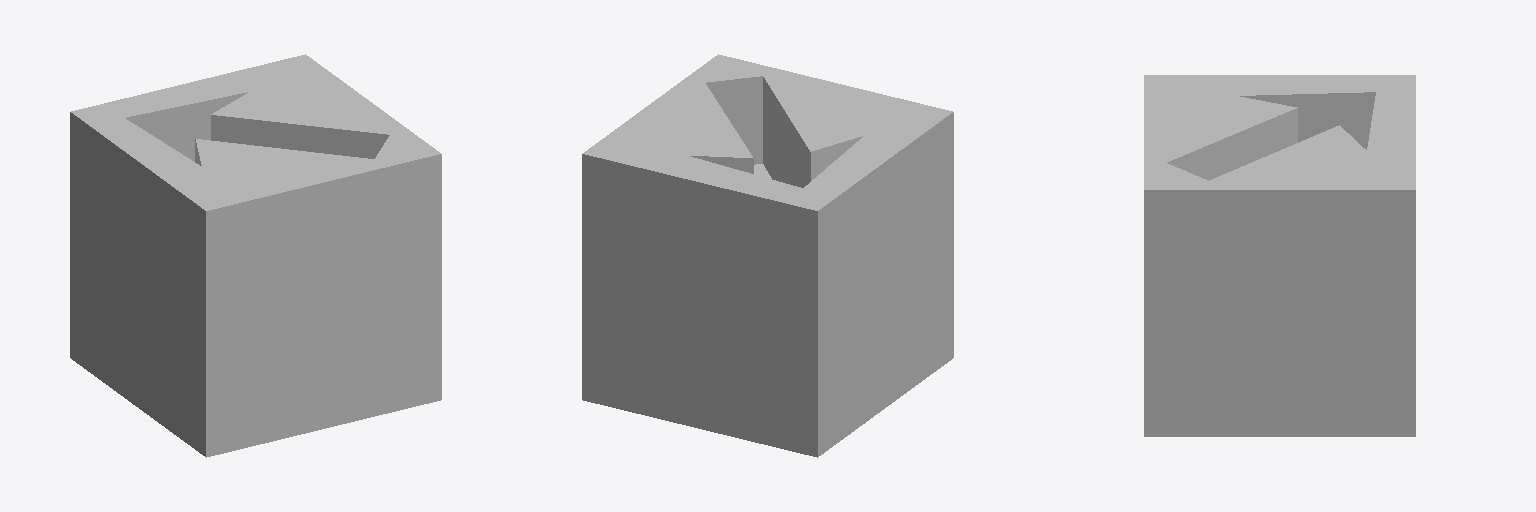
Rendered from Arrow_cube_bottle_rotated45_preprocessed.obj.
3 views of the same model, side by side, from view 1: azimuth 30°, elevation 25°; view 2: azimuth 150°, elevation 25°; view 3: azimuth 270°, elevation 25° (orthographic).
Bounding box in the file's own units: 0.08 × 0.08 × 0.08.